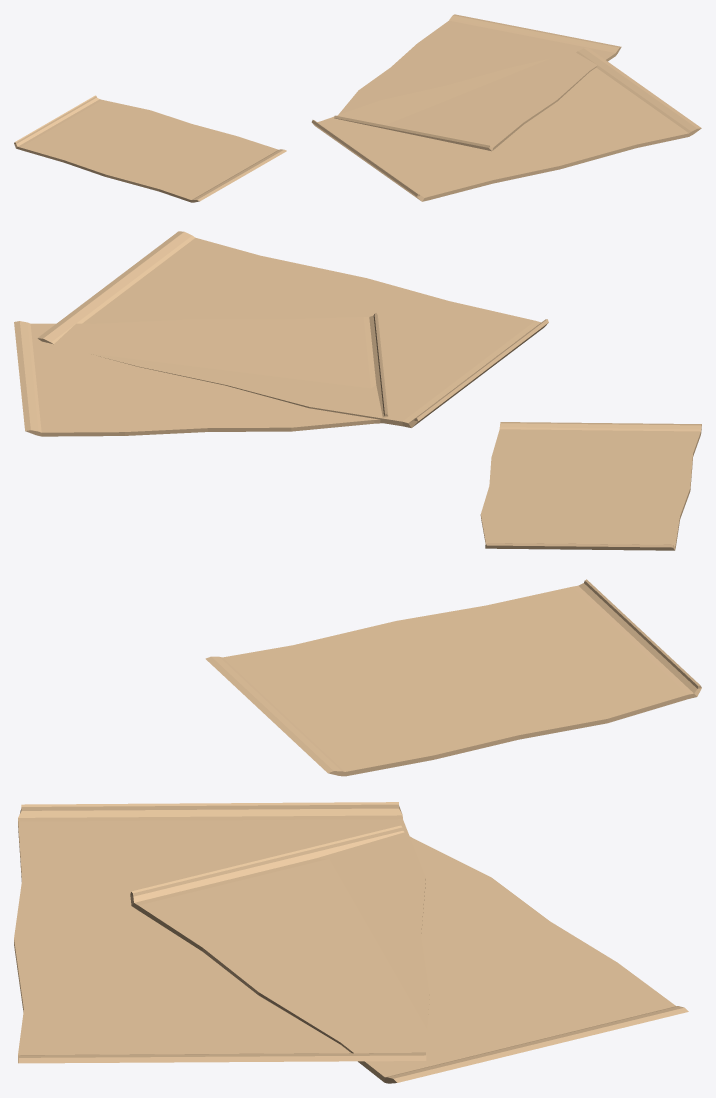
Rendered from loosePapers.fbx.
3 views of the same model, one above another, from view 1: azimuth 30°, elevation 25°; view 2: azimuth 150°, elevation 25°; view 3: azimuth 270°, elevation 25° (orthographic). The views are drawn at different scales.
Visible parts, largest first — view 1: Cube.008, Cube.009, Cube.010; view 2: Cube.008, Cube.009, Cube.010; view 3: Cube.008, Cube.009, Cube.010.
Part boxes in pixels (x1,y1,x2,y2): Cube.008: (311,48,701,201); Cube.009: (334,14,621,151); Cube.010: (14,95,286,202); Cube.008: (37,231,548,427); Cube.009: (14,313,388,436); Cube.010: (480,422,701,550); Cube.008: (14,802,429,1063); Cube.009: (130,825,688,1083); Cube.010: (205,579,701,776).
Size of the model in its own units: 71.99 by 1.57 by 41.94.
